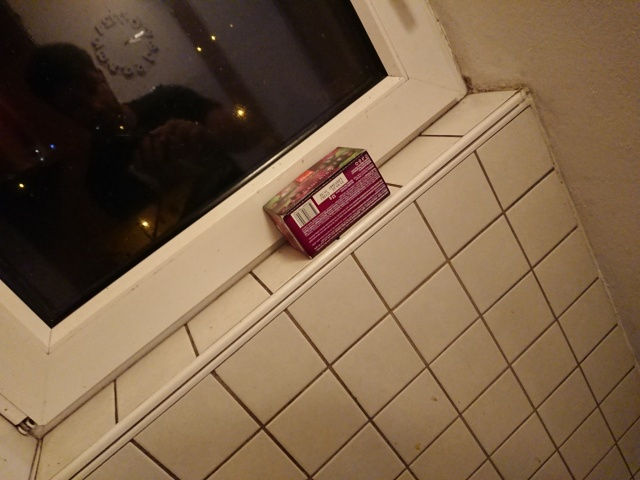Franck Black Currant Tea 60g: (259, 143, 392, 261)
